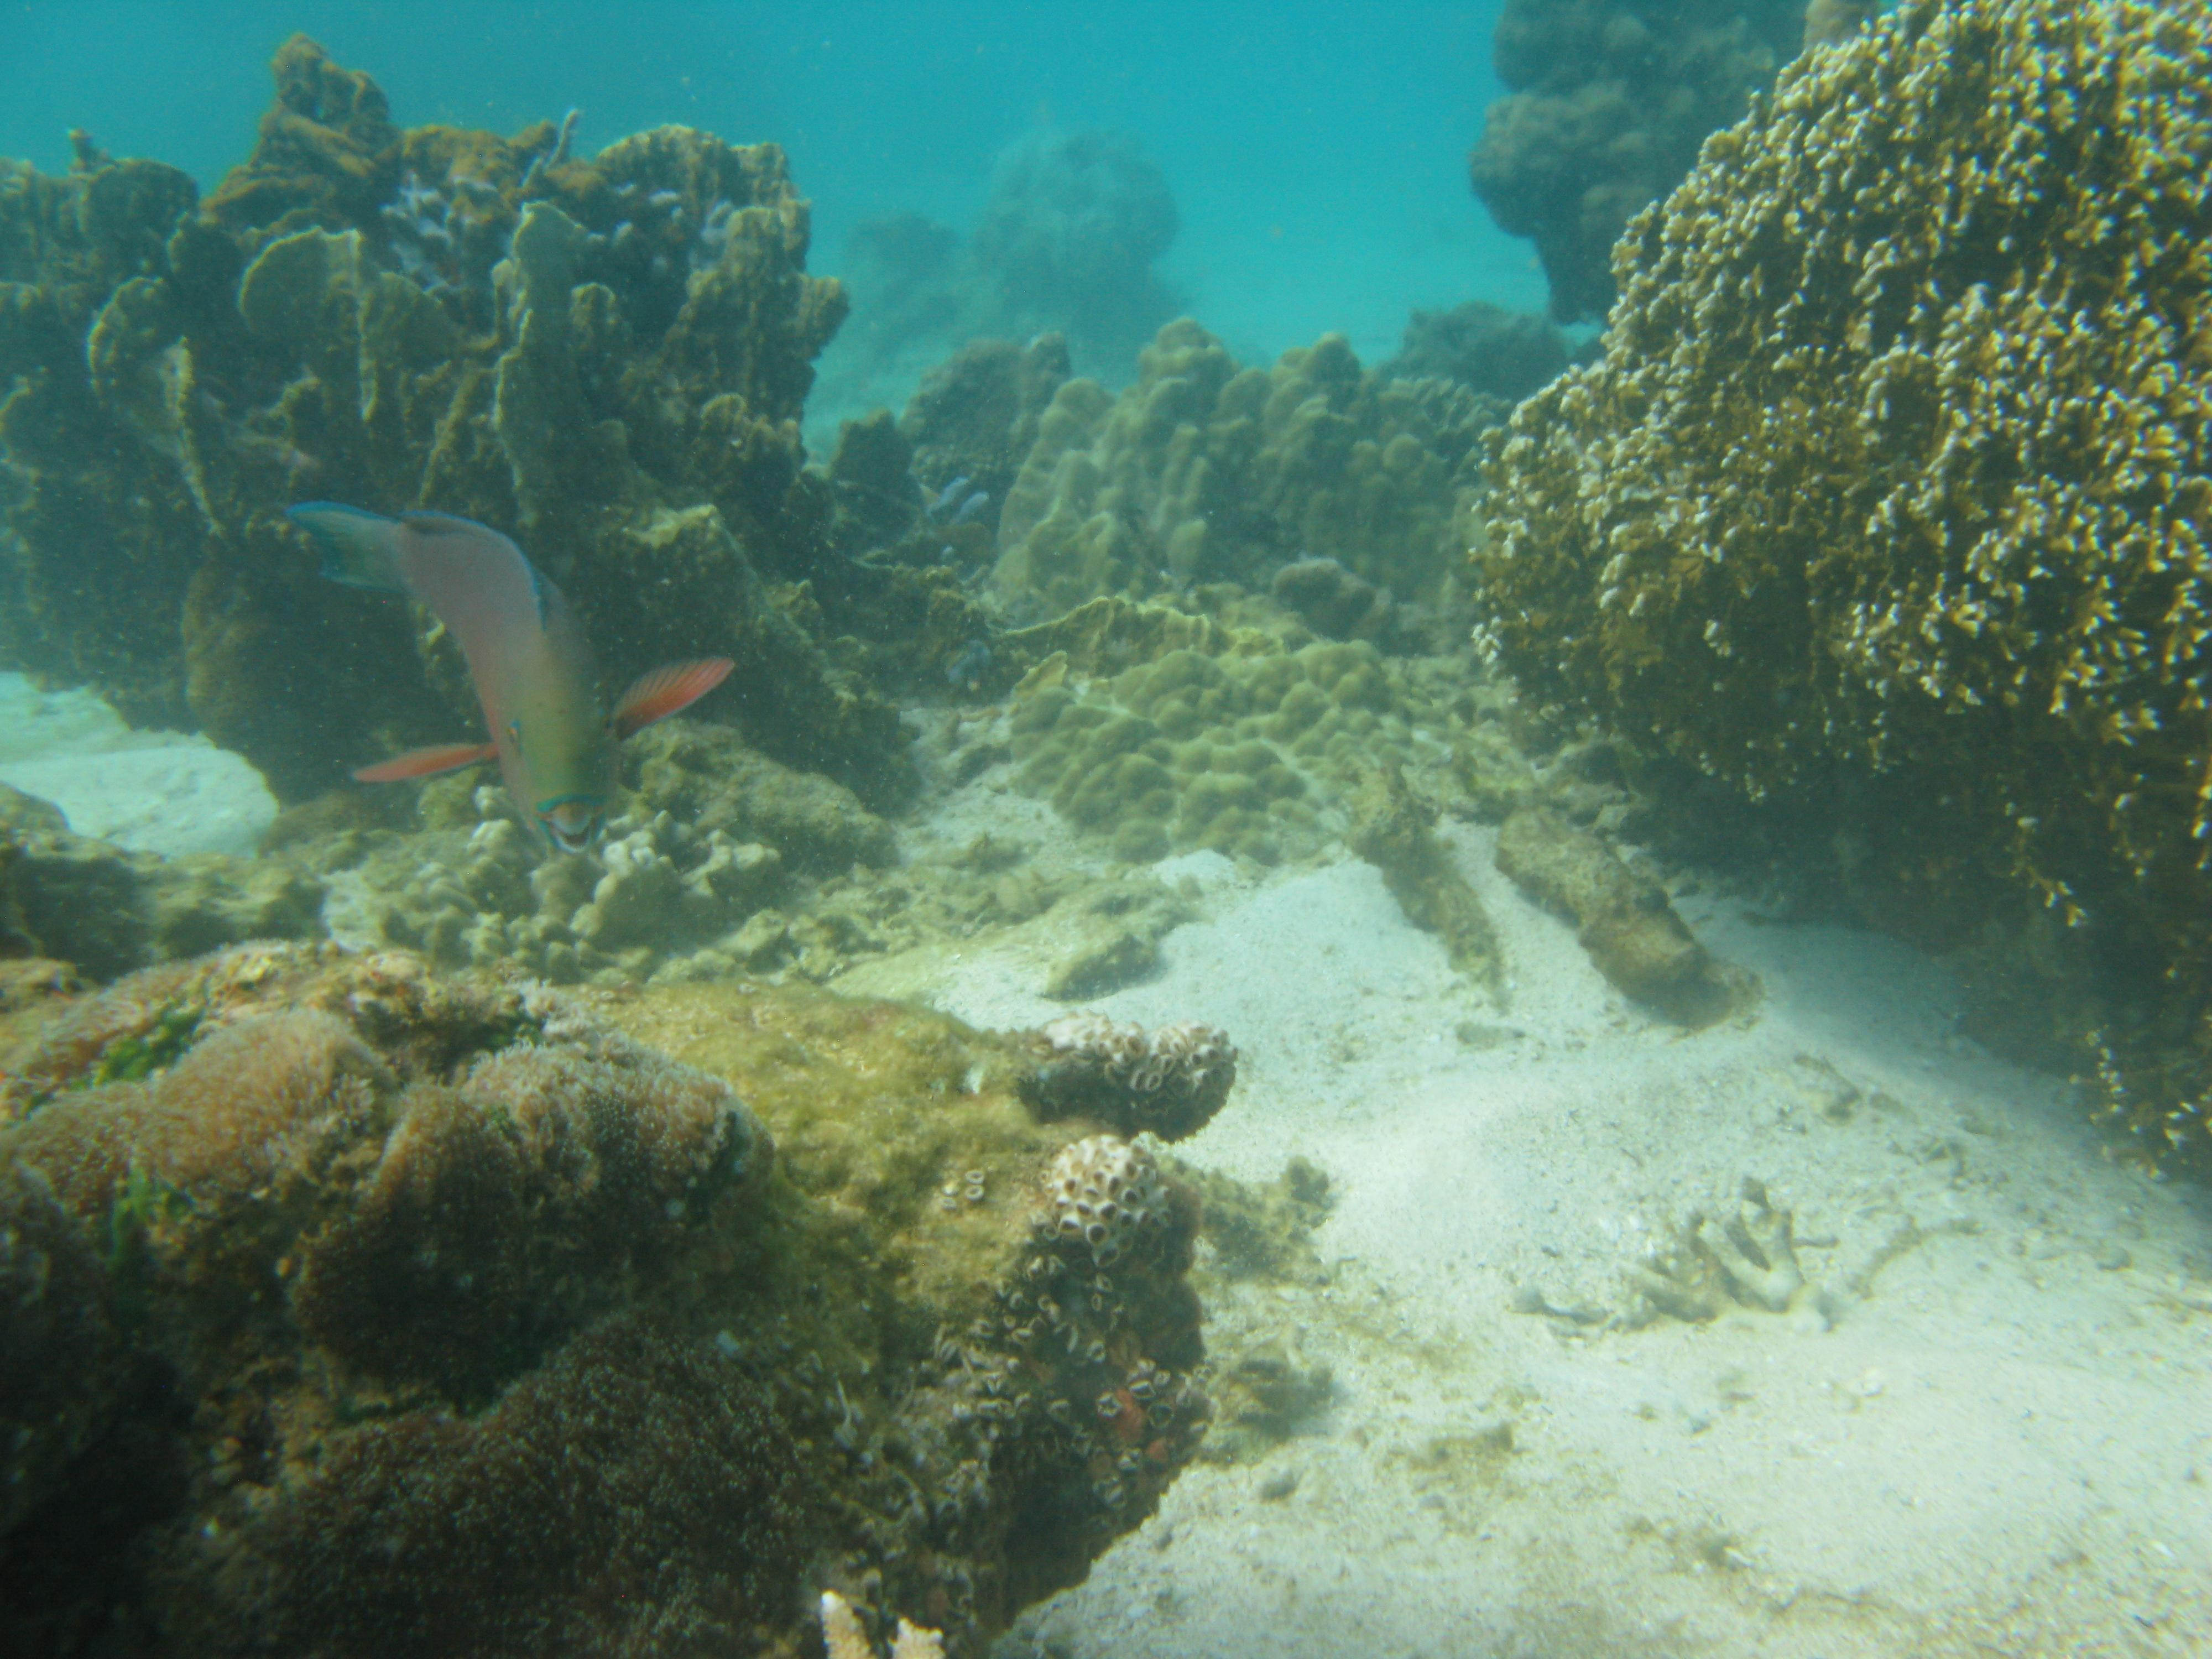Fish: (240, 448, 824, 1004)
